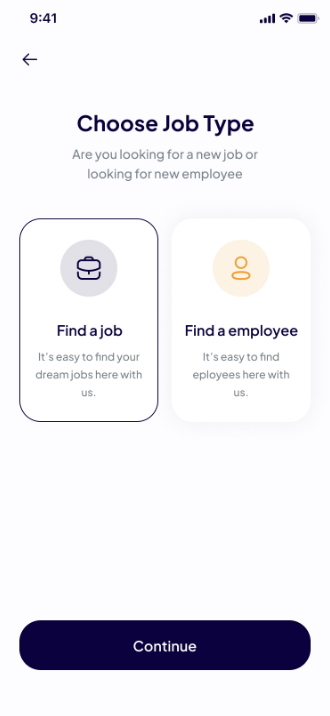Button: (18, 619, 313, 672)
